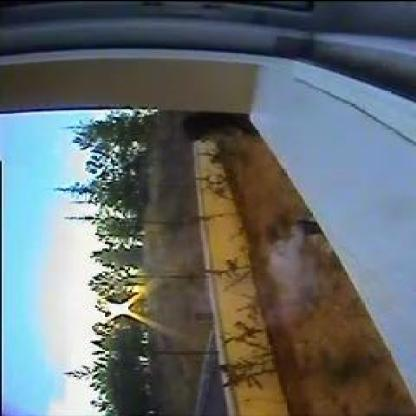-: (266, 222, 304, 298)
